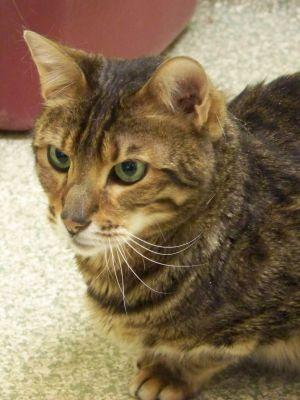bengal: (17, 25, 225, 273)
